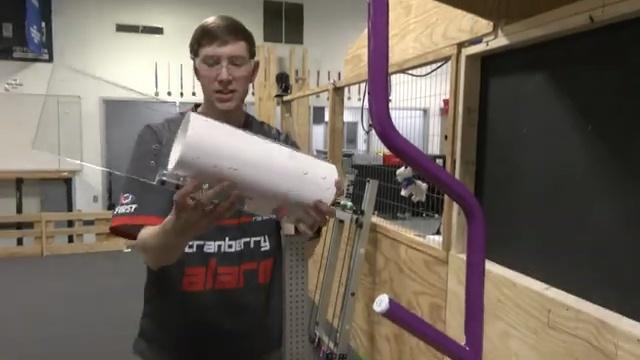CORAL: (160, 109, 339, 217)
